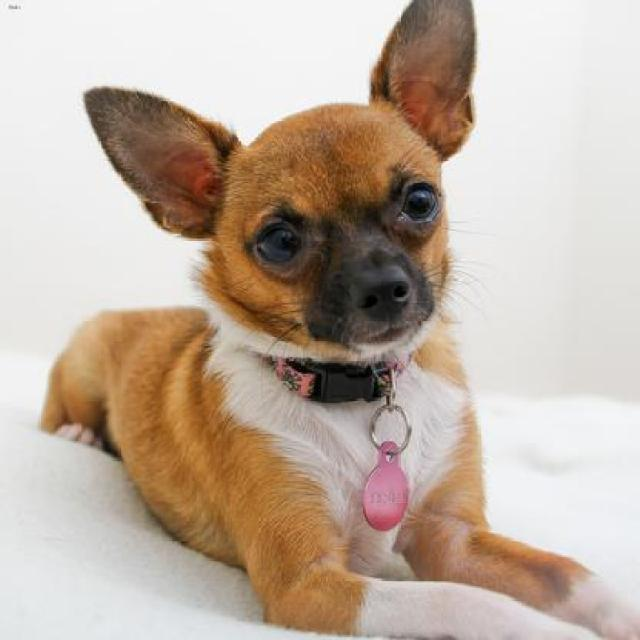Dog: (38, 0, 638, 638)
